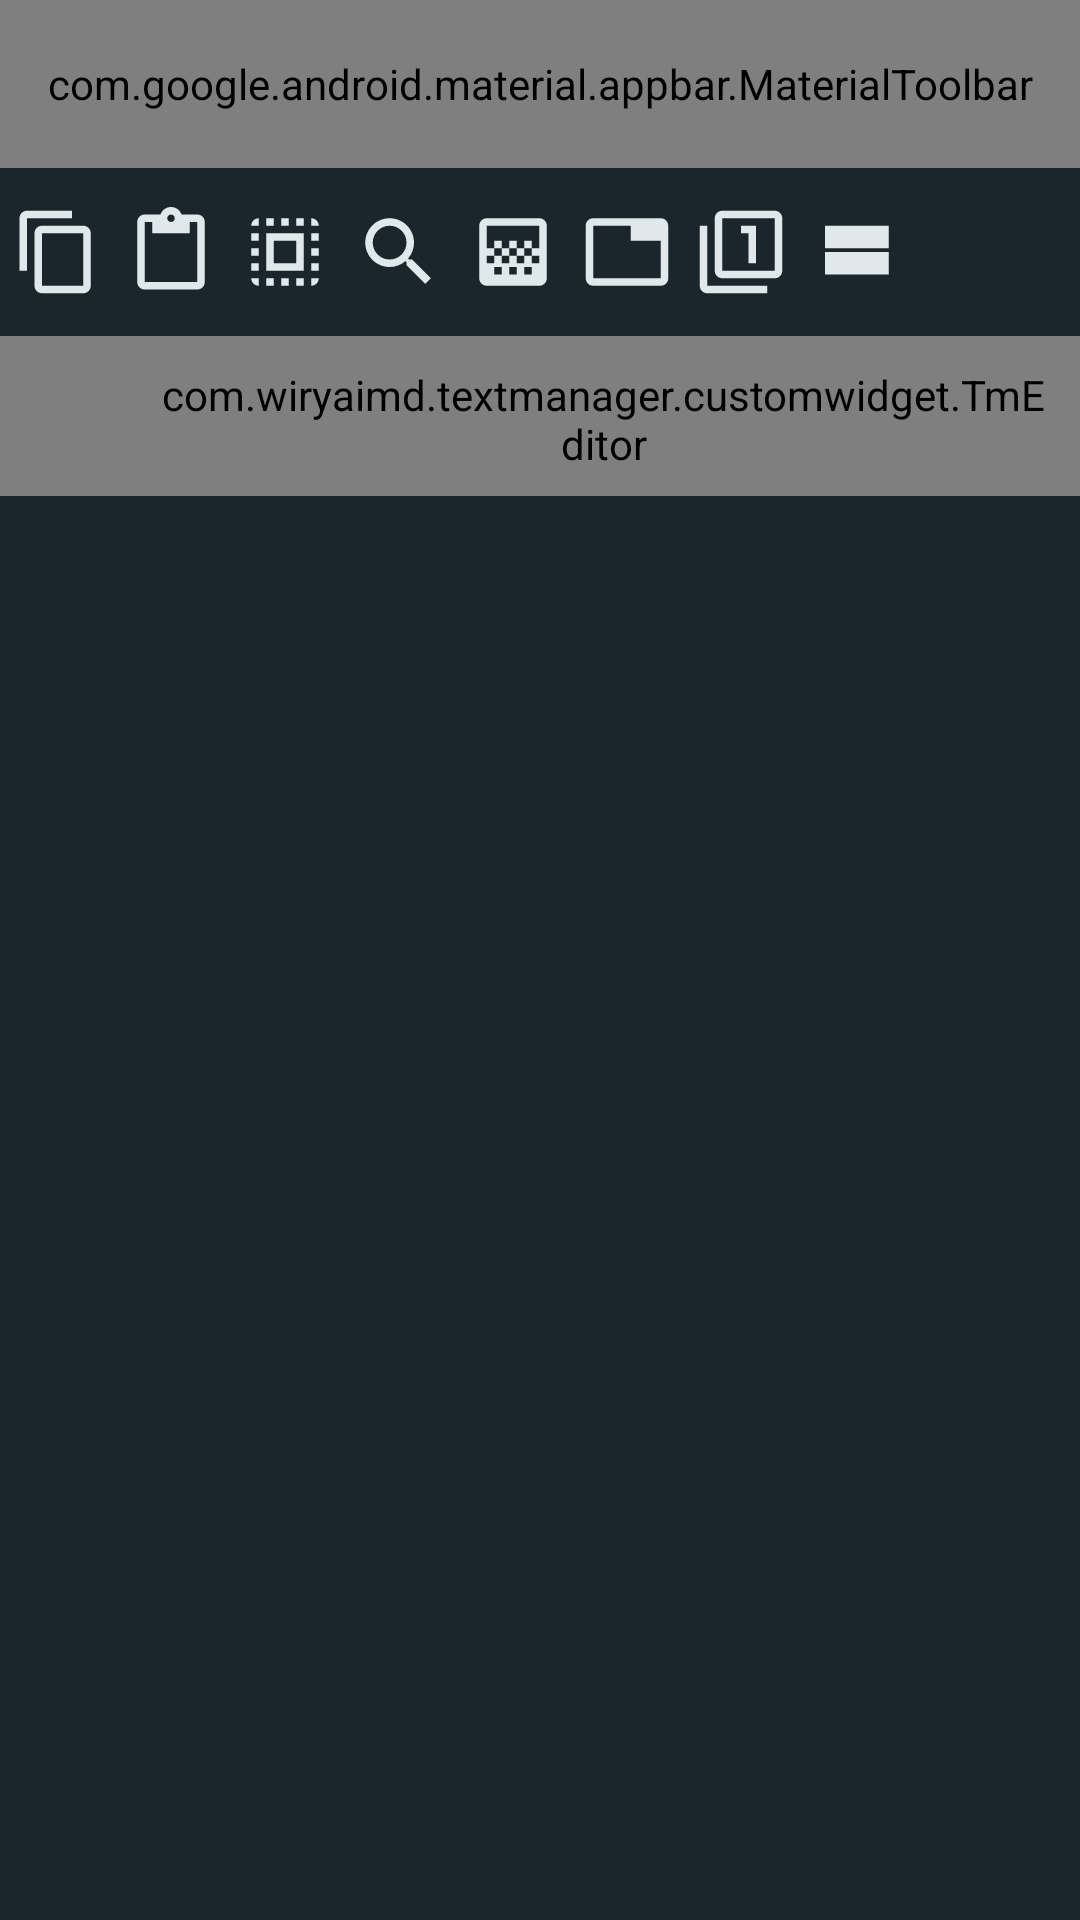

Named icons in this screenshot (1080x1920) and their centers, [x,y]:
paste: [171,248]
search: [398,251]
selectall: [285,252]
tab: [627,252]
